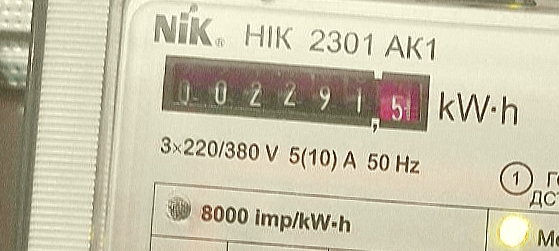0: (172, 74, 191, 104), (210, 76, 227, 106)
1: (348, 82, 364, 117)
2: (245, 78, 262, 108), (280, 78, 295, 107)
5: (386, 91, 404, 122)
9: (314, 81, 331, 112)
screen: (154, 48, 434, 138)
